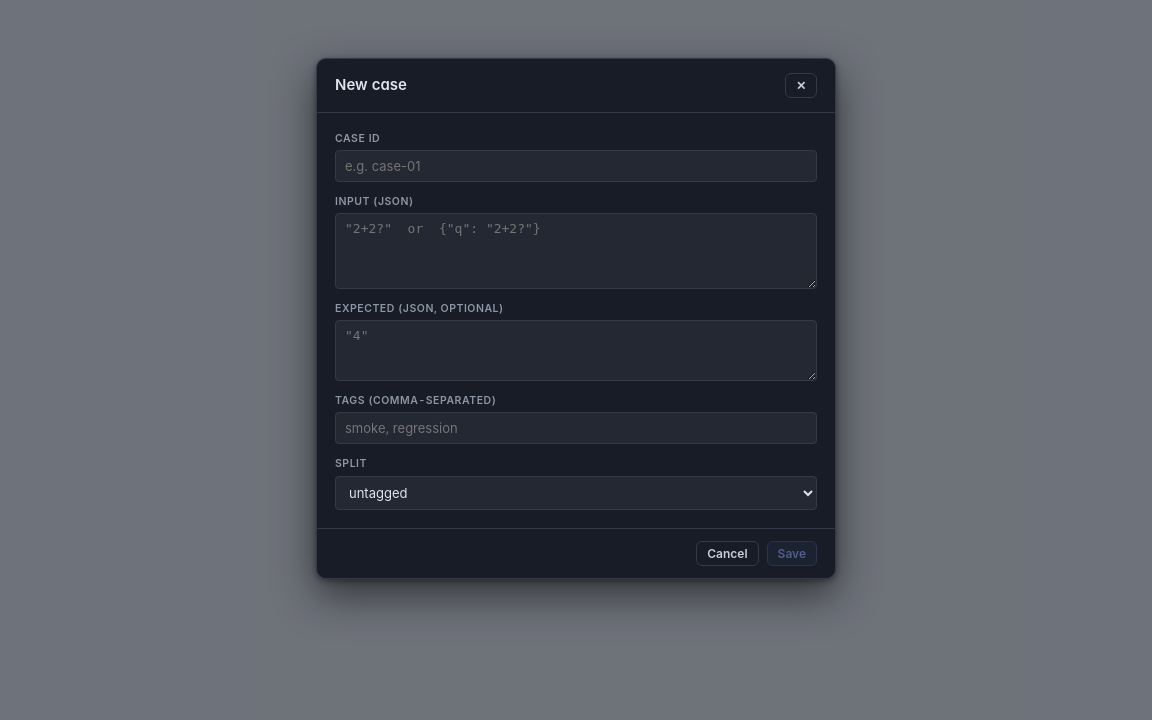
CaseEditModal › blocks save on invalid input JSON with an inline error (no fetch)
The image size is (1152, 720).
Type "c1" into the field labelled "Case id". click: (576, 166)
box: [335,150,817,182]
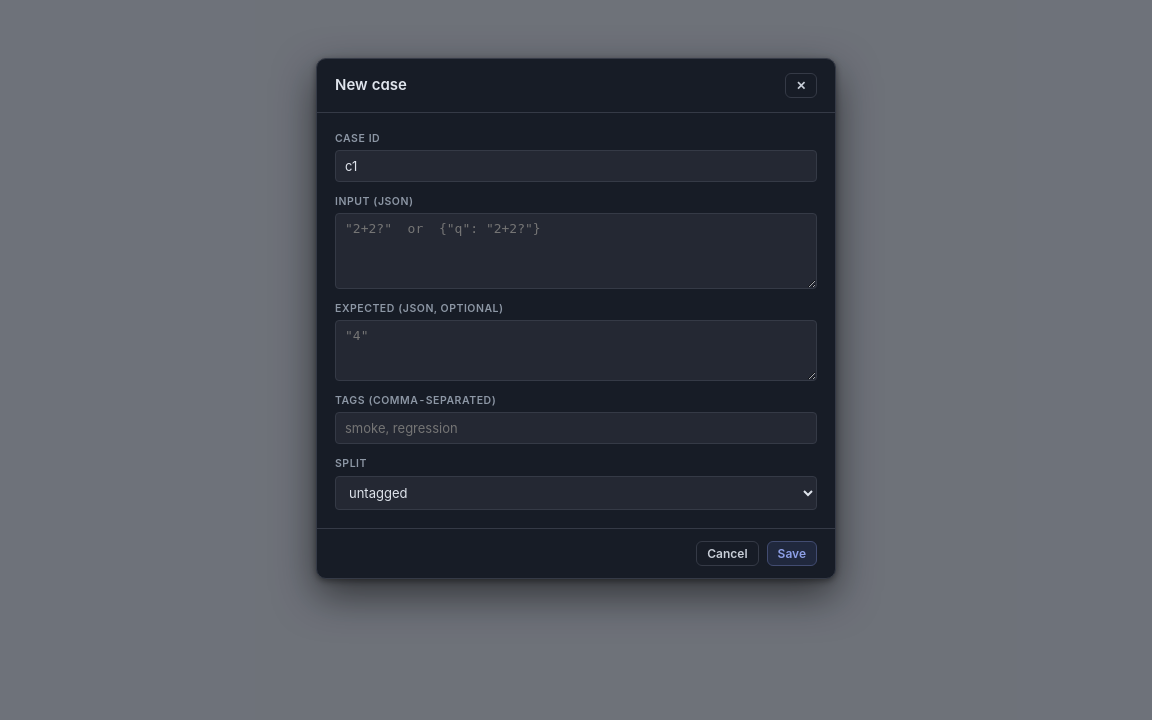
# Unquoted bareword — invalid JSON.
Type "2+2?" into the text box named "Case input". click: (576, 251)
box: [335,213,817,289]
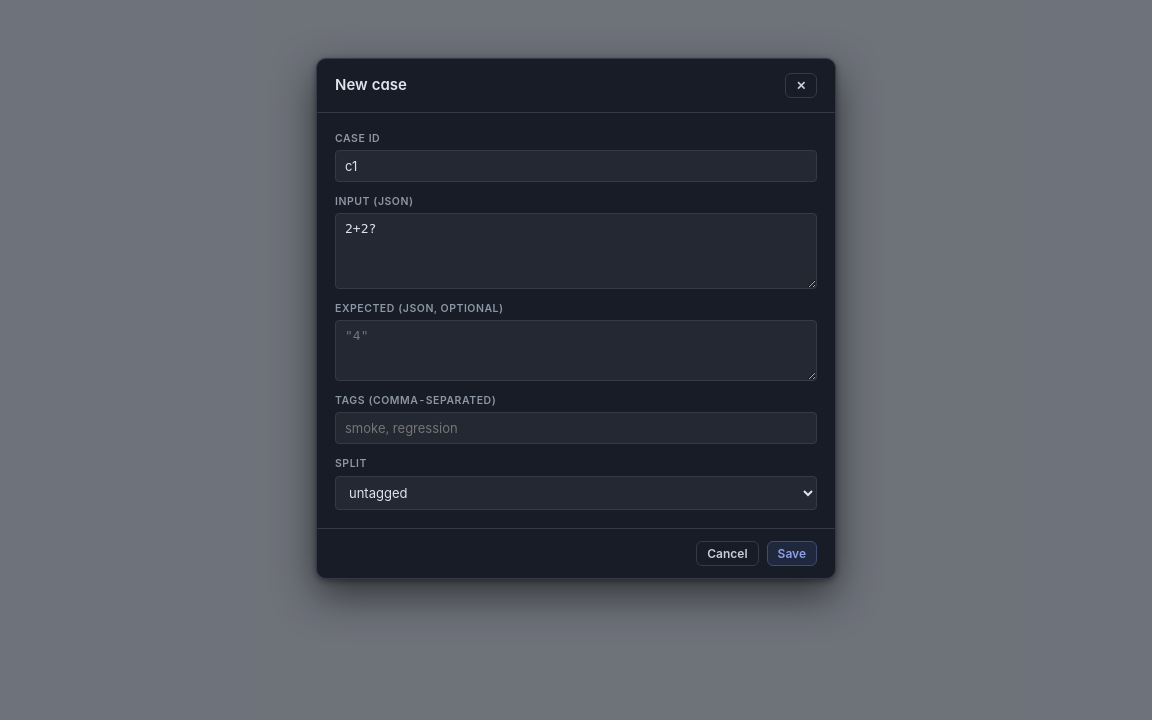
Click the button "Save". click: (792, 553)
box: [767,541,817,566]
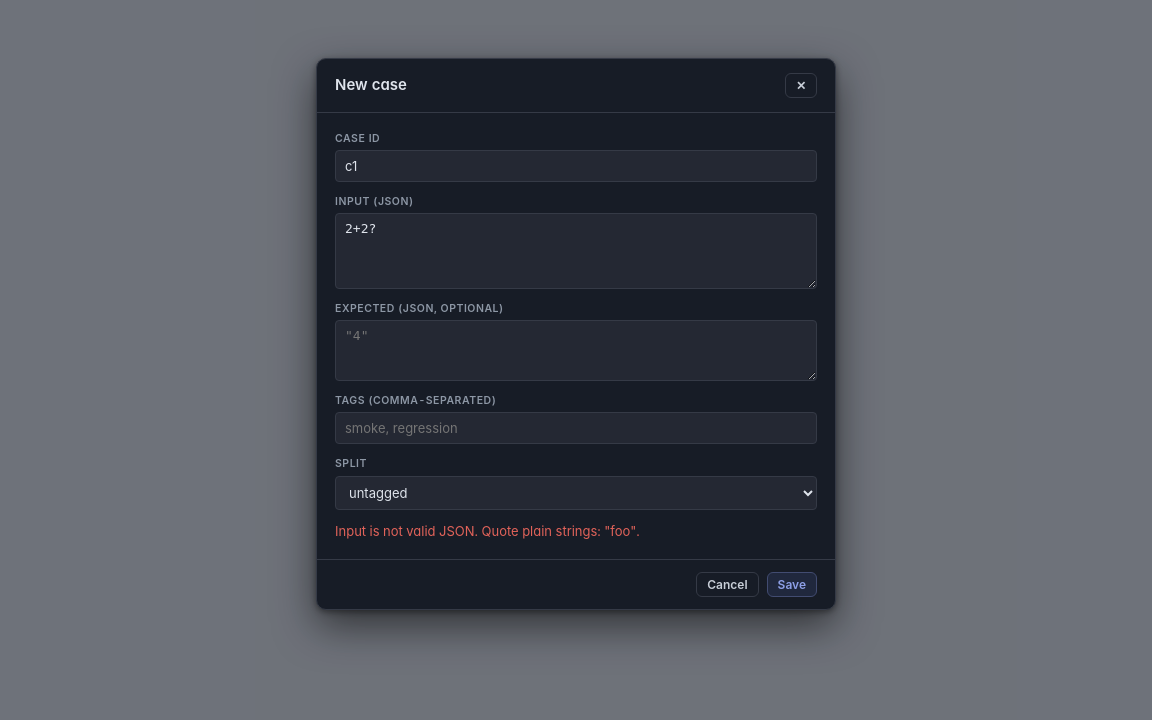
Expected: the text "Input is not valid JSON. Quote plain strings: \"foo\"." is shown, [335,523,640,539]
